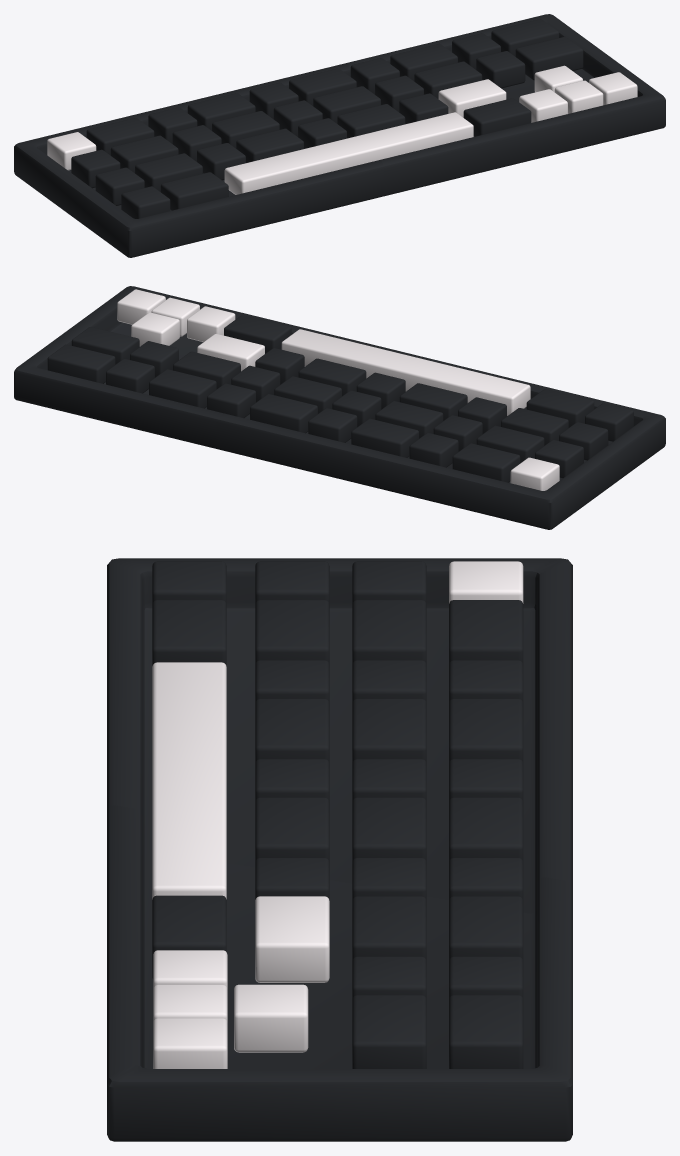
The model's file is Keyboard_Broken.fbx.
3 renders of one model, top to bottom at view 1: azimuth 30°, elevation 25°; view 2: azimuth 150°, elevation 25°; view 3: azimuth 270°, elevation 25°, orthographic. The views are drawn at different scales.
Parts seen in each view (by area): view 1: Keyboard.003, Keyboard.002; view 2: Keyboard.003, Keyboard.002; view 3: Keyboard.003, Keyboard.002.
Boxes of the visible parts, x1=… form: Keyboard.003: x1=14, y1=63, x2=473, y2=257; Keyboard.002: x1=337, y1=14, x2=665, y2=196; Keyboard.003: x1=216, y1=329, x2=665, y2=529; Keyboard.002: x1=14, y1=286, x2=410, y2=448; Keyboard.003: x1=107, y1=558, x2=572, y2=913; Keyboard.002: x1=107, y1=797, x2=572, y2=1141.
Size of the model in its own units: 162 by 11.49 by 60.61.
